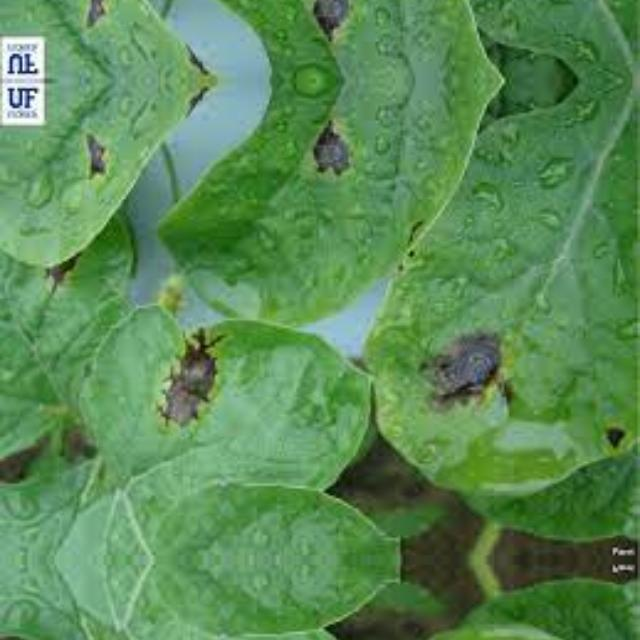Lettuce - Anthracnose: (67, 284, 386, 482), (412, 293, 606, 473), (268, 87, 448, 239), (268, 0, 448, 73), (54, 97, 148, 223), (53, 0, 148, 63), (66, 636, 385, 640)
